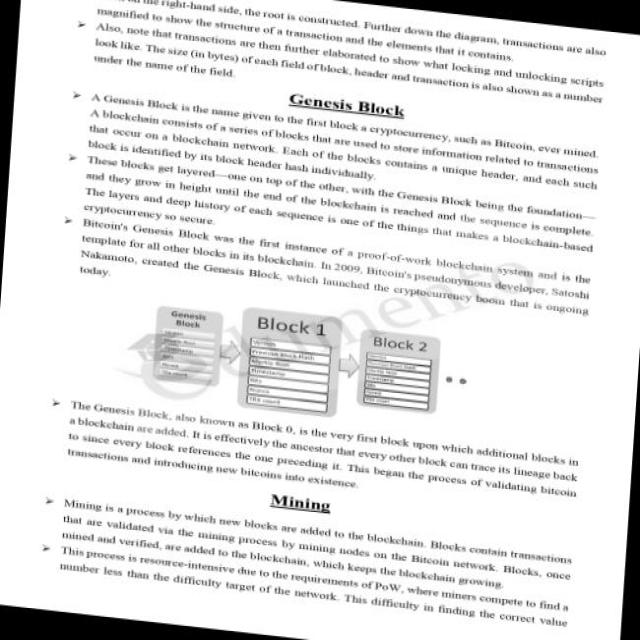Figure Detection - v3 Dataset Version2: (133, 282, 480, 440)
